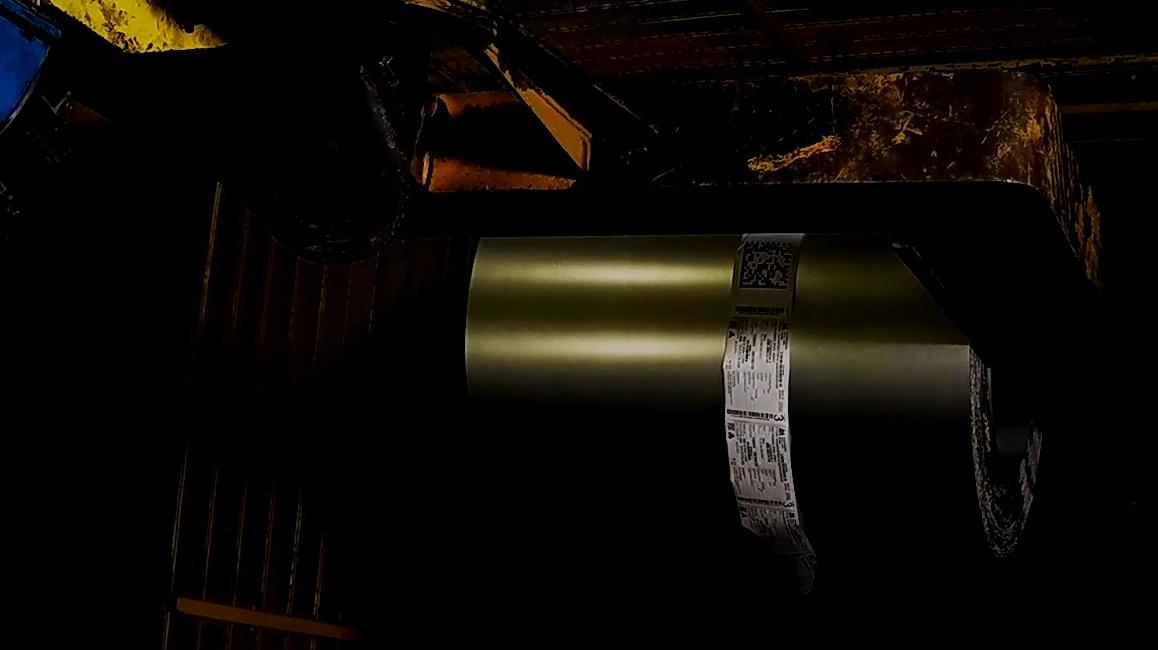data matrix: (737, 236, 797, 293)
